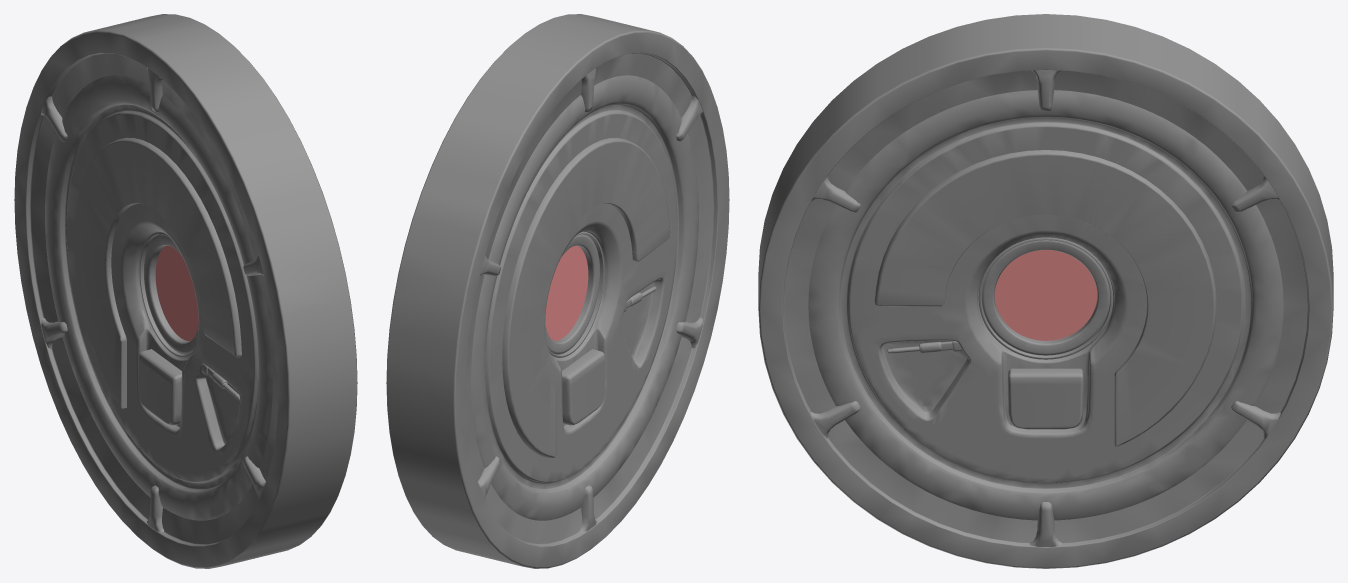
The model's file is SM_EngineerShip_Door.gltf.
The picture shows the model from 3 angles, left to right: view 1: azimuth 30°, elevation 25°; view 2: azimuth 150°, elevation 25°; view 3: azimuth 270°, elevation 25°; orthographic projection. The views are drawn at different scales.
Parts seen in each view (by area): view 1: SM_EngineerShip_Door; view 2: SM_EngineerShip_Door; view 3: SM_EngineerShip_Door.
Boxes of the visible parts, x1,y1,x2,y2 form: SM_EngineerShip_Door: (14,14,357,568); SM_EngineerShip_Door: (386,14,729,568); SM_EngineerShip_Door: (758,14,1333,568).
Bounding box in the file's own units: 0.476 × 3.27 × 3.27.
